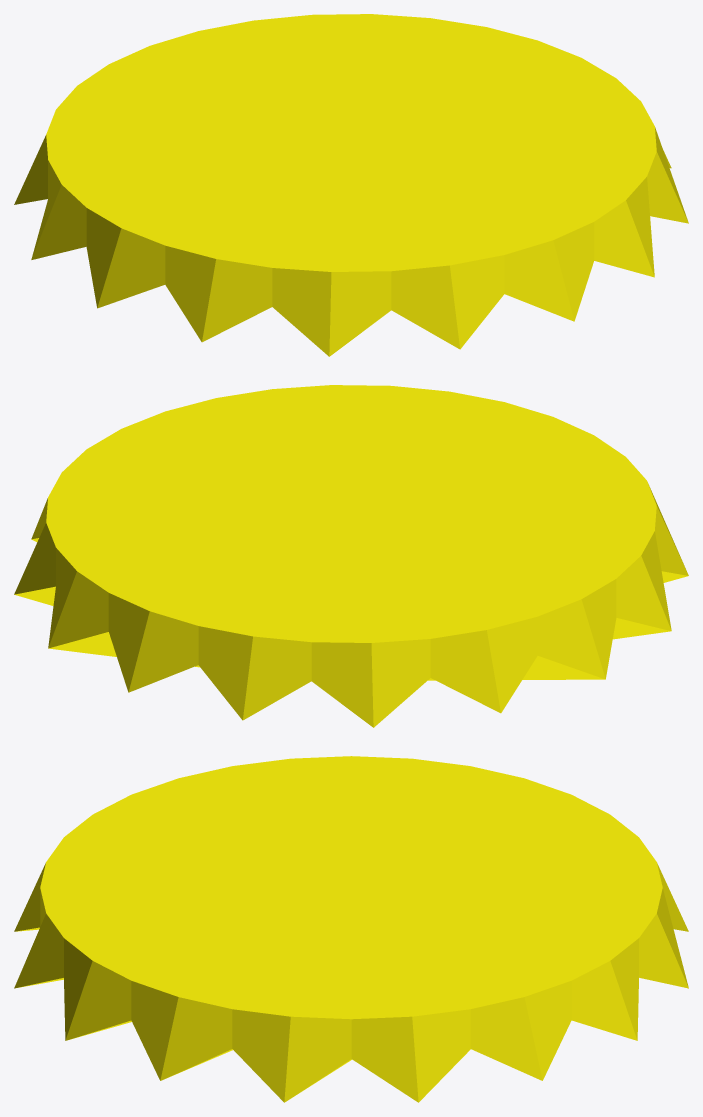
The model's file is Chapa.fbx.
3 renders of one model, top to bottom at view 1: azimuth 30°, elevation 25°; view 2: azimuth 150°, elevation 25°; view 3: azimuth 270°, elevation 25°, orthographic.
Parts seen in each view (by area): view 1: Circle; view 2: Circle; view 3: Circle.
Boxes of the visible parts, bbox=[...] form: Circle: bbox=[14, 14, 688, 356]; Circle: bbox=[14, 385, 688, 727]; Circle: bbox=[14, 756, 688, 1102].
Bounding box in the file's own units: 2168 × 257 × 2168.
